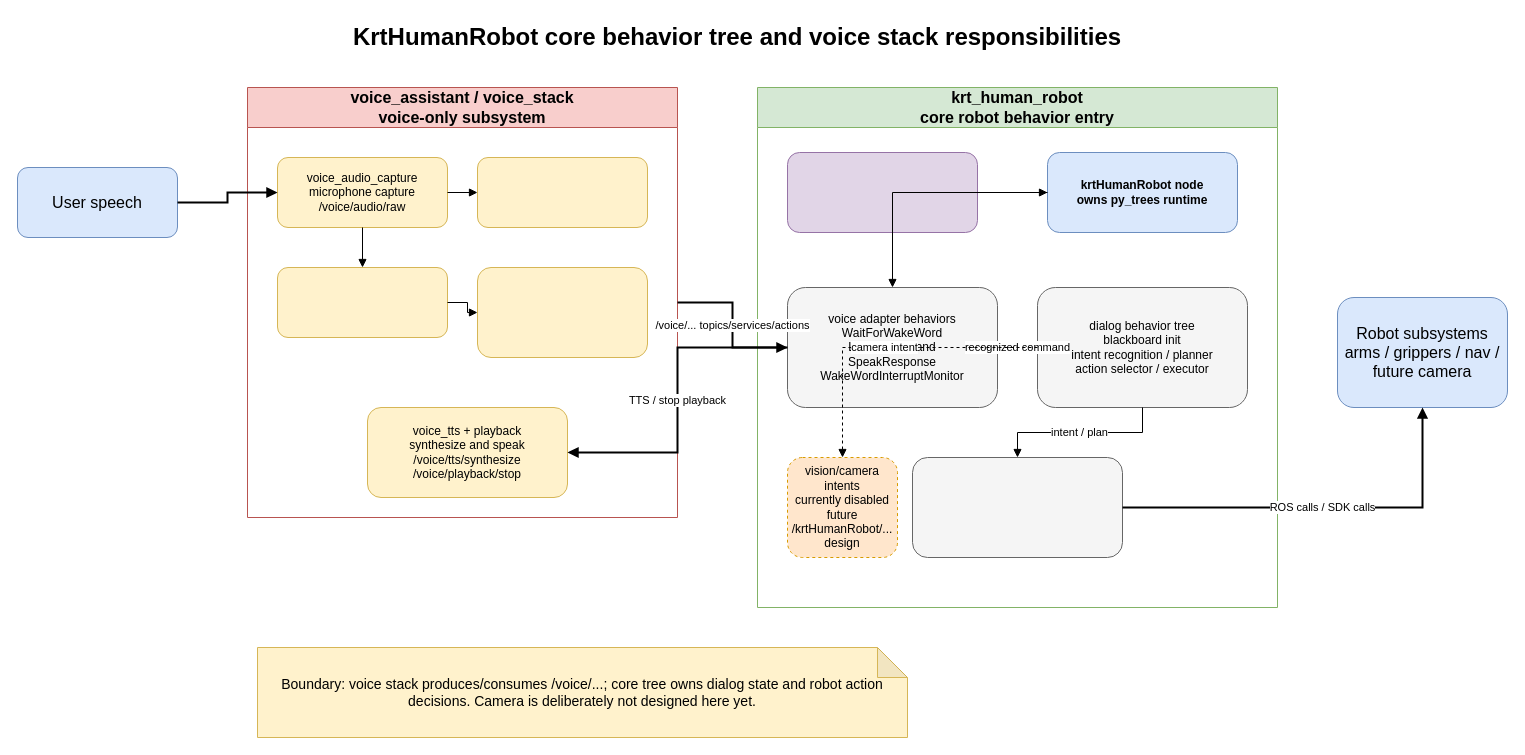
Some shapes in this 1525 by 755 pixel diagram are drawn without their labels. Each missing label, with the centre of its shape:
robot actions gripper robot arm navigation LLM dialog: the point at 1017,507
robot.launch.py default: starts voice stack then starts krtHumanRobot: the point at 882,192
voice_asr speech recognition /voice/asr/recognize /voice/asr/stream: the point at 562,312
voice_audio_process VAD events /voice/vad/events: the point at 362,302
voice_kws wake word events: the point at 562,192
